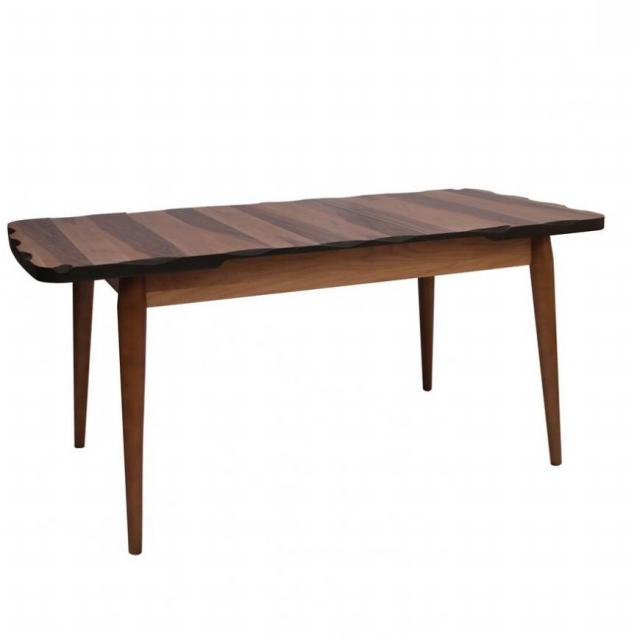Table: (0, 149, 640, 579)
